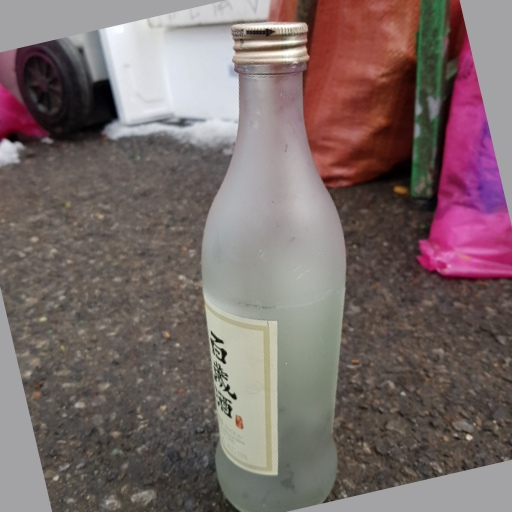Glass_0: (192, 18, 350, 508)
